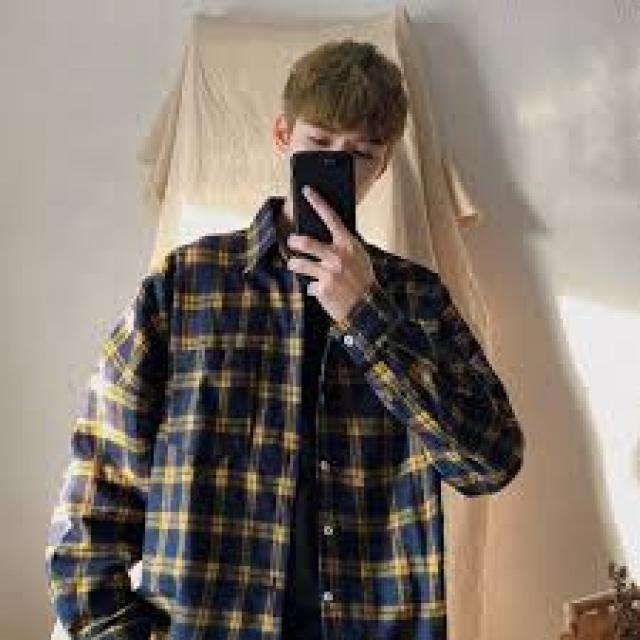plaid: (36, 210, 537, 637)
